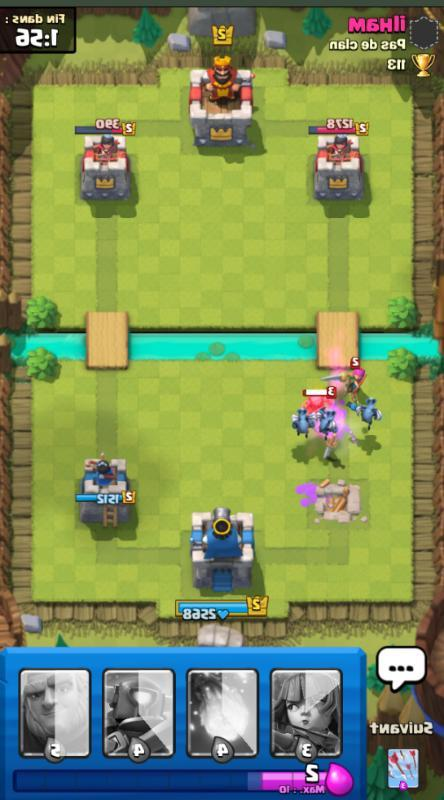enemy_archers: (338, 358, 370, 393)
player_minions: (351, 392, 384, 425), (287, 404, 316, 436), (314, 404, 341, 436)
